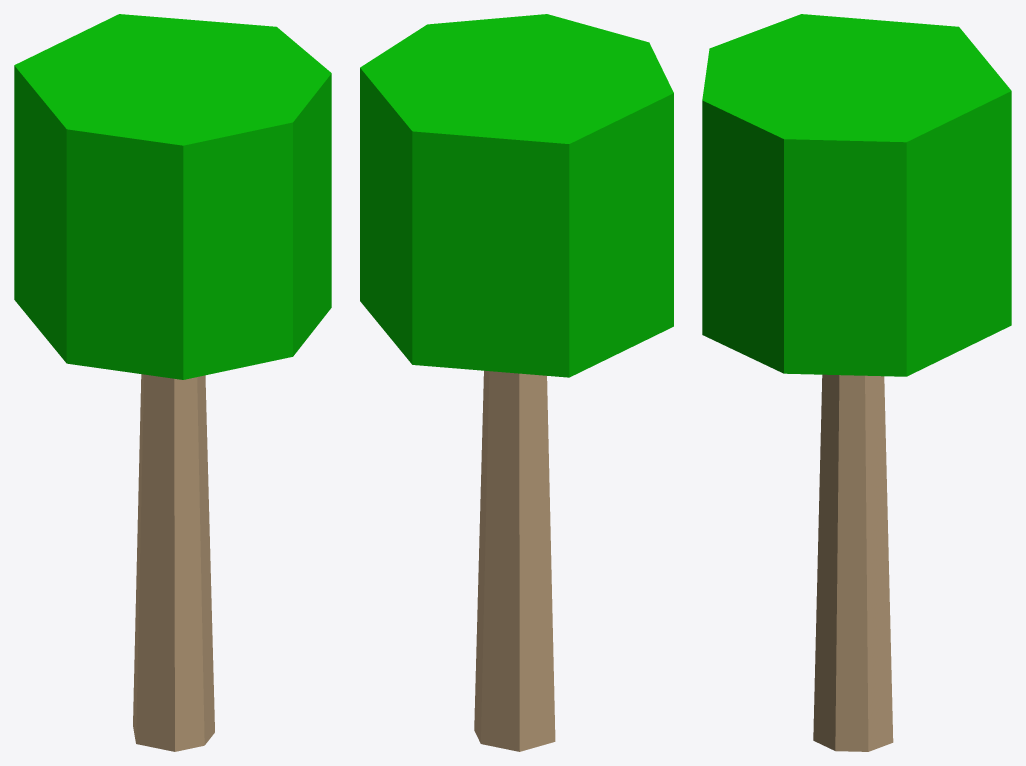
Rendered from tree_placeholder.glb.
3 views of the same model, side by side, from view 1: azimuth 30°, elevation 25°; view 2: azimuth 150°, elevation 25°; view 3: azimuth 270°, elevation 25° (orthographic).
Visible parts, largest first — view 1: leaves, trunk-col; view 2: leaves, trunk-col; view 3: leaves, trunk-col.
Boxes of the visible parts, x1,y1,x2,y2 form: leaves: (14,14,331,379); trunk-col: (133,374,214,751); leaves: (360,14,673,377); trunk-col: (474,370,555,751); leaves: (702,14,1011,376); trunk-col: (813,374,893,751).
Size of the model in its own units: 3.26 by 7.78 by 3.32.
